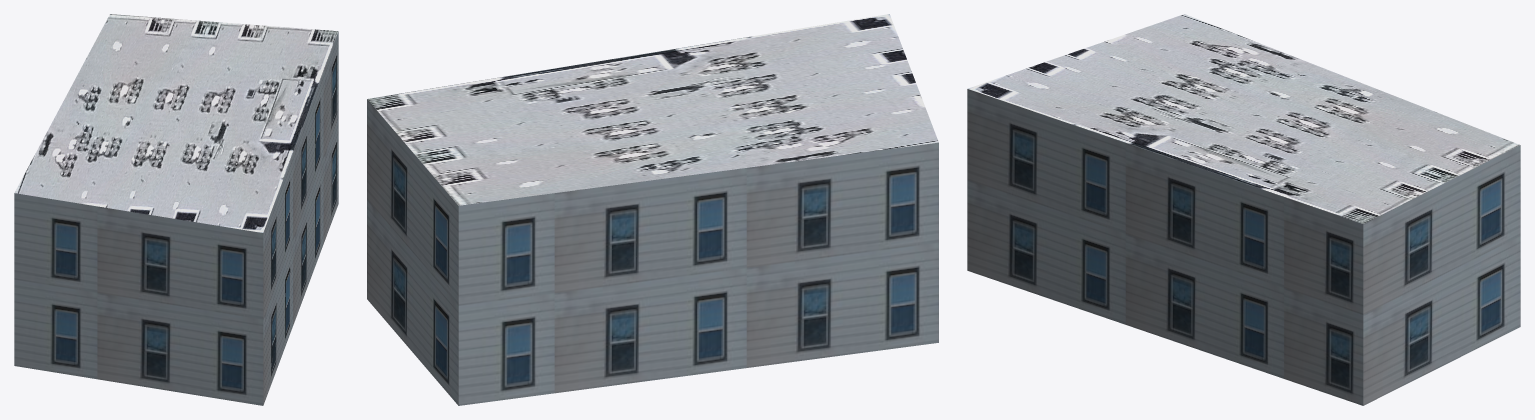
File: ResTex__1316.fbx
3 renders of one model, left to right at view 1: azimuth 30°, elevation 25°; view 2: azimuth 150°, elevation 25°; view 3: azimuth 270°, elevation 25°, orthographic. The views are drawn at different scales.
Parts seen in each view (by area): view 1: CityEngineMaterial_18_m, CityEngineMaterial_4_m; view 2: CityEngineMaterial_18_m, CityEngineMaterial_4_m; view 3: CityEngineMaterial_18_m, CityEngineMaterial_4_m.
Part boxes in pixels (<box>): CityEngineMaterial_18_m: <box>14,31,338,405</box>; CityEngineMaterial_4_m: <box>14,14,338,232</box>; CityEngineMaterial_18_m: <box>367,99,938,405</box>; CityEngineMaterial_4_m: <box>367,14,938,205</box>; CityEngineMaterial_18_m: <box>967,89,1520,405</box>; CityEngineMaterial_4_m: <box>967,14,1519,223</box>.
Size of the model in its own units: 14.85 by 6 by 16.53.
2 materials, 2 textured.
